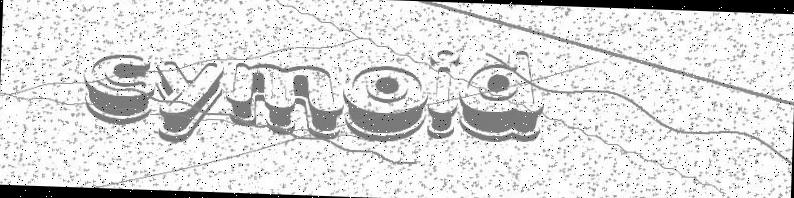c: (81, 51, 158, 128)
d: (457, 47, 547, 143)
i: (427, 47, 460, 141)
m: (225, 60, 346, 141)
o: (343, 64, 430, 144)
y: (152, 58, 225, 145)
